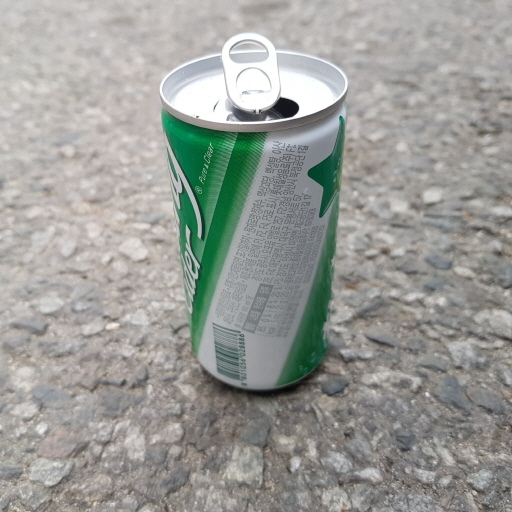Metal_0: (155, 28, 349, 396)
